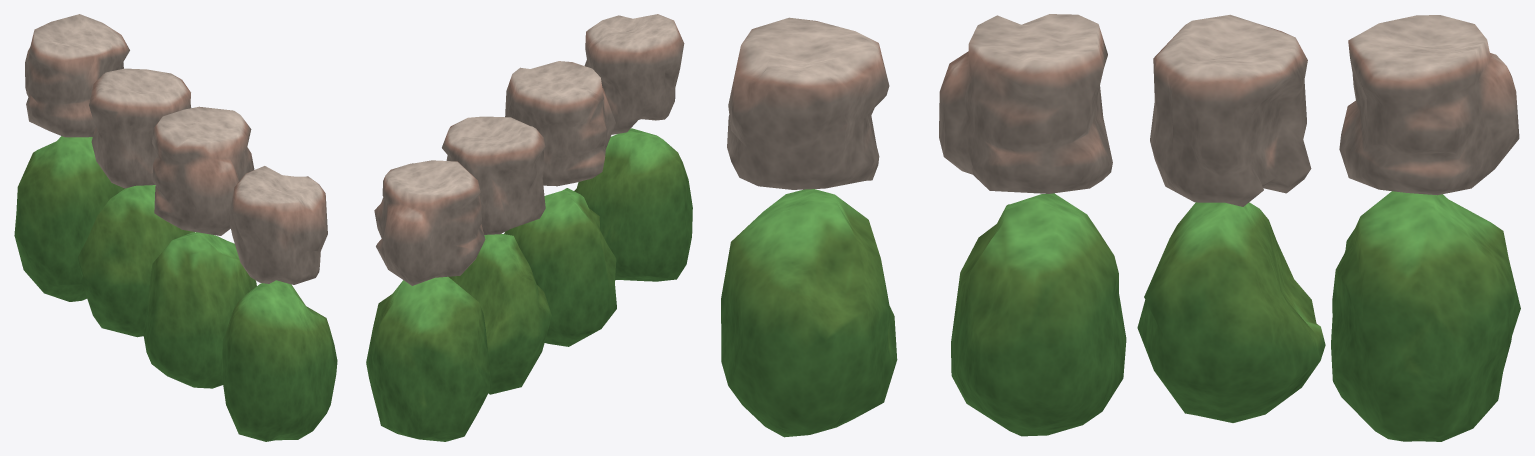
File: rocks.glb
3 views of the same model, side by side, from view 1: azimuth 30°, elevation 25°; view 2: azimuth 150°, elevation 25°; view 3: azimuth 270°, elevation 25° (orthographic). The views are drawn at different scales.
Parts seen in each view (by area): view 1: Hill.003, Hill, Hill.001, Cliff.003, Hill.002, Cliff.001, Cliff, Cliff.002; view 2: Hill.001, Hill.003, Cliff, Hill, Cliff.003, Hill.002, Cliff.001, Cliff.002; view 3: Hill.001, Hill.003, Hill, Hill.002, Cliff, Cliff.003, Cliff.002, Cliff.001.
Boxes of the visible parts, left/top/right/bottom form: Hill.003: left=221, top=280, right=337, bottom=441; Hill: left=143, top=232, right=256, bottom=388; Hill.001: left=14, top=136, right=124, bottom=301; Cliff.003: left=152, top=106, right=254, bottom=235; Hill.002: left=78, top=185, right=194, bottom=337; Cliff.001: left=229, top=166, right=327, bottom=284; Cliff: left=25, top=14, right=129, bottom=137; Cliff.002: left=89, top=68, right=191, bottom=188; Hill.001: left=366, top=276, right=491, bottom=441; Hill.003: left=574, top=128, right=692, bottom=281; Cliff: left=374, top=160, right=485, bottom=285; Hill: left=504, top=188, right=616, bottom=346; Cliff.003: left=505, top=61, right=615, bottom=186; Hill.002: left=448, top=233, right=551, bottom=394; Cliff.001: left=584, top=14, right=684, bottom=134; Cliff.002: left=442, top=116, right=545, bottom=234; Hill.001: left=1331, top=191, right=1520, bottom=441; Hill.003: left=721, top=189, right=897, bottom=437; Hill: left=951, top=193, right=1126, bottom=436; Hill.002: left=1137, top=202, right=1325, bottom=422; Cliff: left=1339, top=15, right=1519, bottom=195; Cliff.003: left=939, top=14, right=1112, bottom=193; Cliff.002: left=1150, top=14, right=1311, bottom=206; Cliff.001: left=727, top=17, right=889, bottom=189.
Bounding box in the file's own units: 5.03 × 11.5 × 20.88.
1 material, 1 textured.
